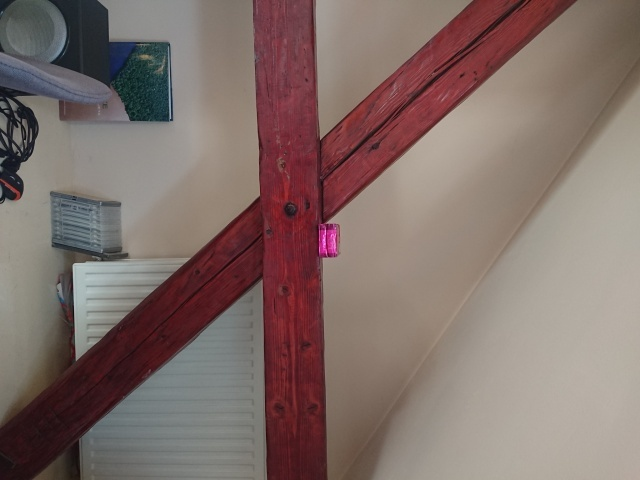Barcaffe Classic Original 225g: (316, 221, 342, 260)
